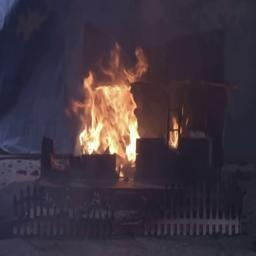fire: (69, 42, 148, 174)
